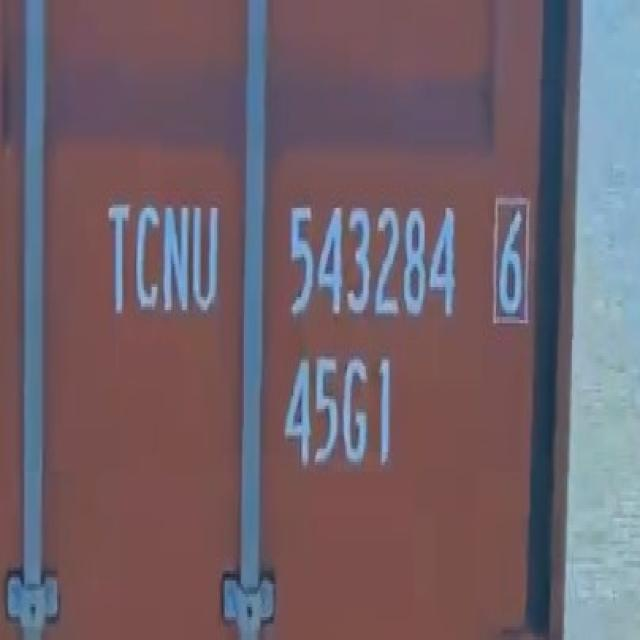dv: (488, 189, 532, 335)
owner: (103, 194, 225, 326)
serial: (281, 190, 460, 332)
size: (277, 344, 397, 478)
